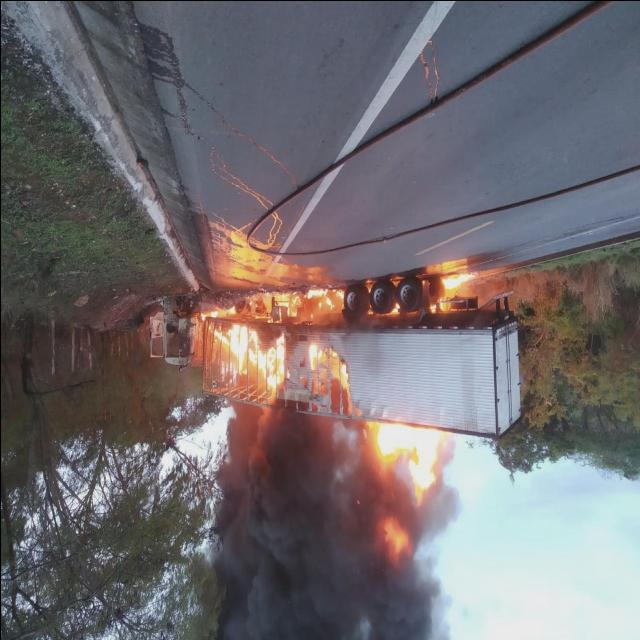Fire: (370, 418, 448, 504), (207, 324, 283, 394), (306, 343, 350, 387), (381, 519, 409, 555), (304, 286, 342, 308), (273, 293, 301, 317), (200, 304, 236, 322), (440, 276, 472, 290)
